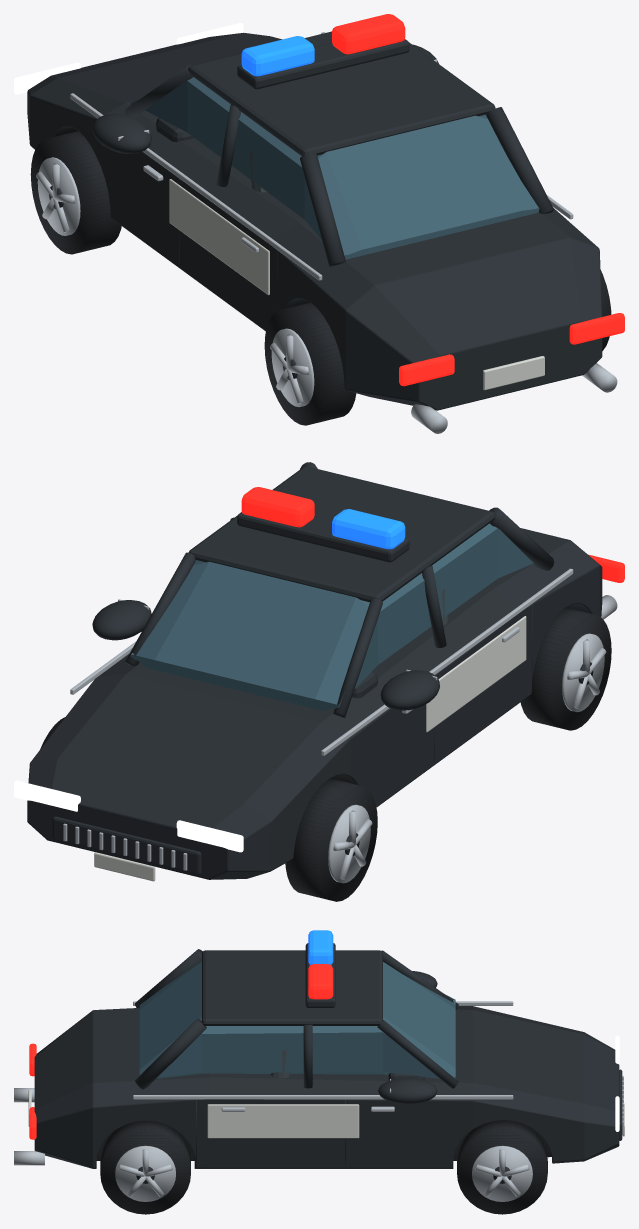
Rendered from mc_police.glb.
The picture shows the model from 3 angles, top to bottom: view 1: azimuth 30°, elevation 25°; view 2: azimuth 150°, elevation 25°; view 3: azimuth 270°, elevation 25°; orthographic projection. The views are drawn at different scales.
Parts seen in each view (by area): view 1: mc_police__Geometry, mc_police__Wheel_L, mc_police__Wheel_L.001; view 2: mc_police__Geometry, mc_police__Wheel_L.001, mc_police__Wheel_L; view 3: mc_police__Geometry, mc_police__Wheel_R.001, mc_police__Wheel_R.
Part boxes in pixels (left/top/right/bottom): mc_police__Geometry: left=14, top=14, right=624, bottom=433; mc_police__Wheel_L: left=264, top=302, right=356, bottom=425; mc_police__Wheel_L.001: left=30, top=131, right=121, bottom=254; mc_police__Geometry: left=14, top=462, right=624, bottom=883; mc_police__Wheel_L.001: left=285, top=778, right=377, bottom=901; mc_police__Wheel_L: left=520, top=607, right=611, bottom=730; mc_police__Geometry: left=14, top=930, right=624, bottom=1201; mc_police__Wheel_R.001: left=457, top=1120, right=547, bottom=1214; mc_police__Wheel_R: left=100, top=1121, right=190, bottom=1214.
Bounding box in the file's own units: 2.36 × 1.81 × 4.91.
Materials: 9 (2 with a texture image).
